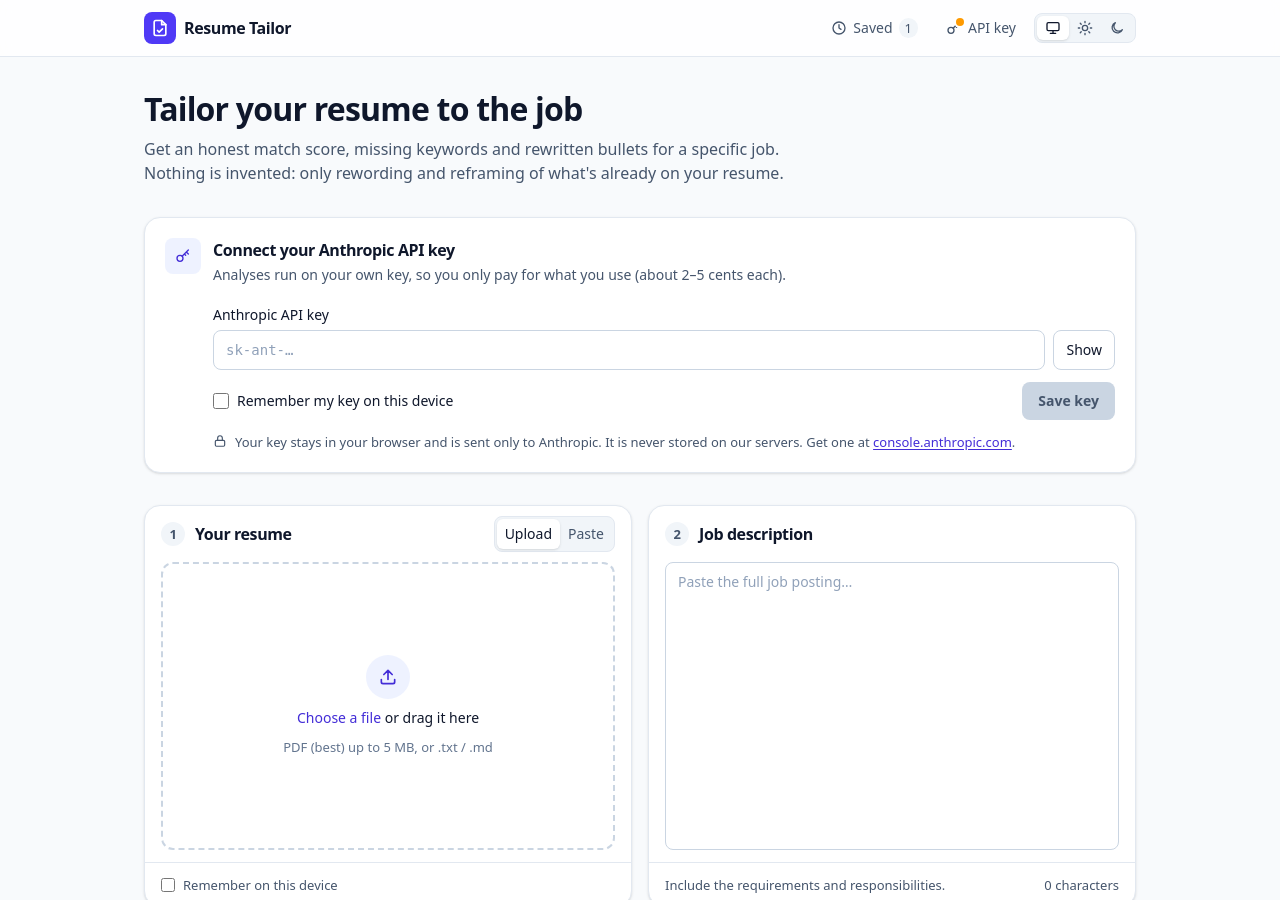
Test: App › explains why a saved analysis can't get a cover letter without a resume
This screenshot has width=1280, height=900.
Click the button "Saved 1". click: (875, 28)
box: [821,11,928,45]
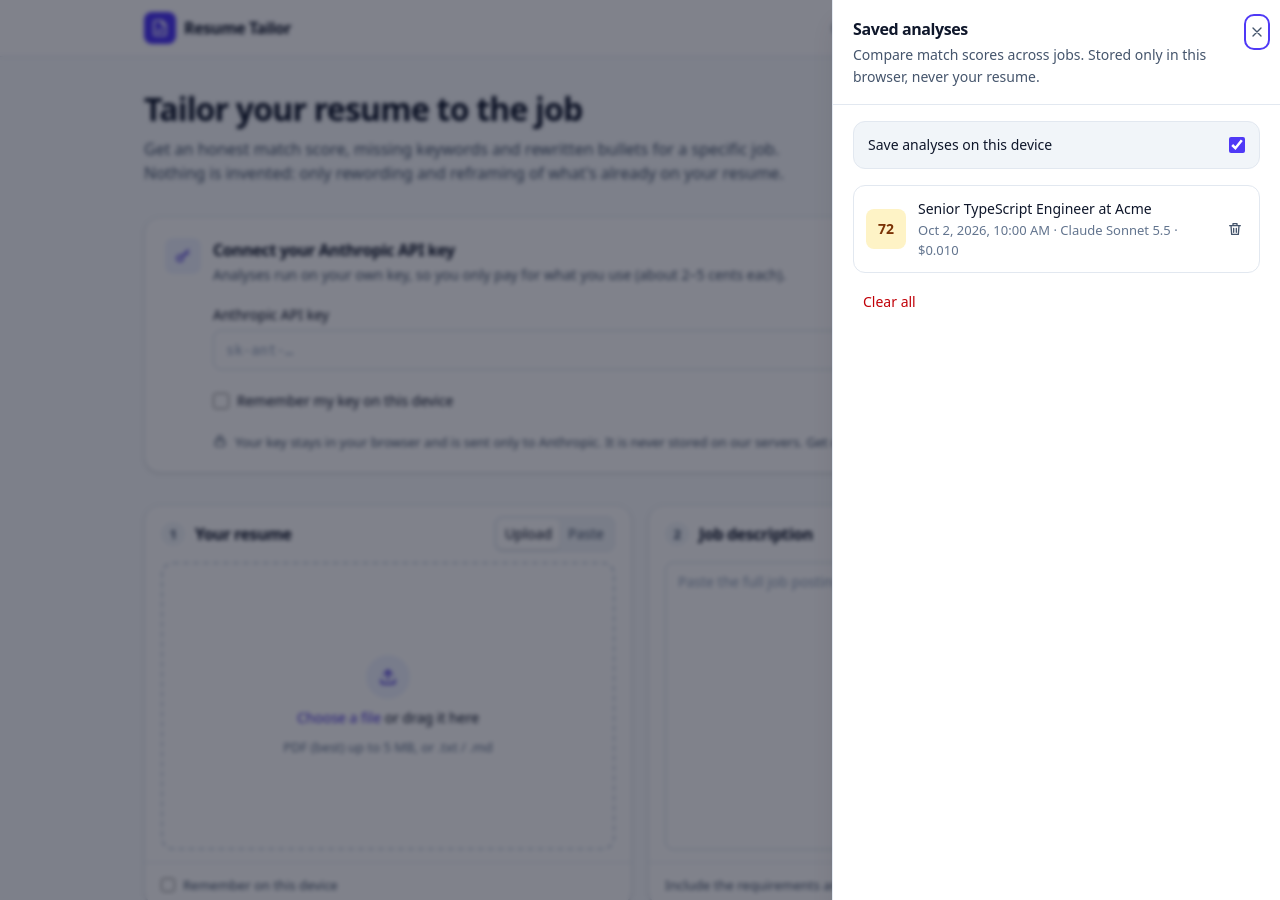
Click the button with aria-label "View analysis". click: (1034, 229)
box: [854,186,1215,272]
(page scrolled)
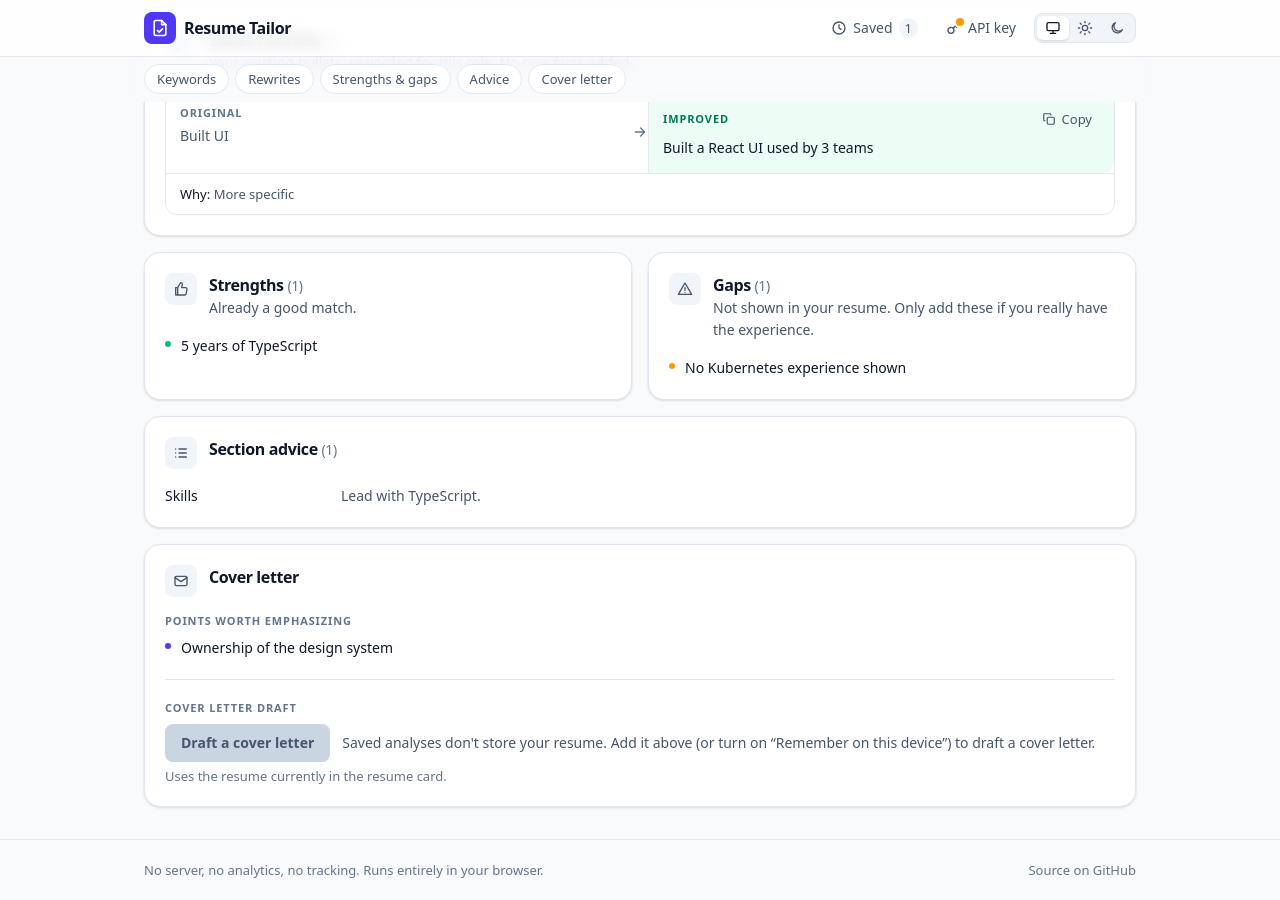
Expected: the button "Draft a cover letter" is disabled, [165,724,330,762]
Expected: the text "Saved analyses don't store your resume" is shown, [342,733,1095,752]
